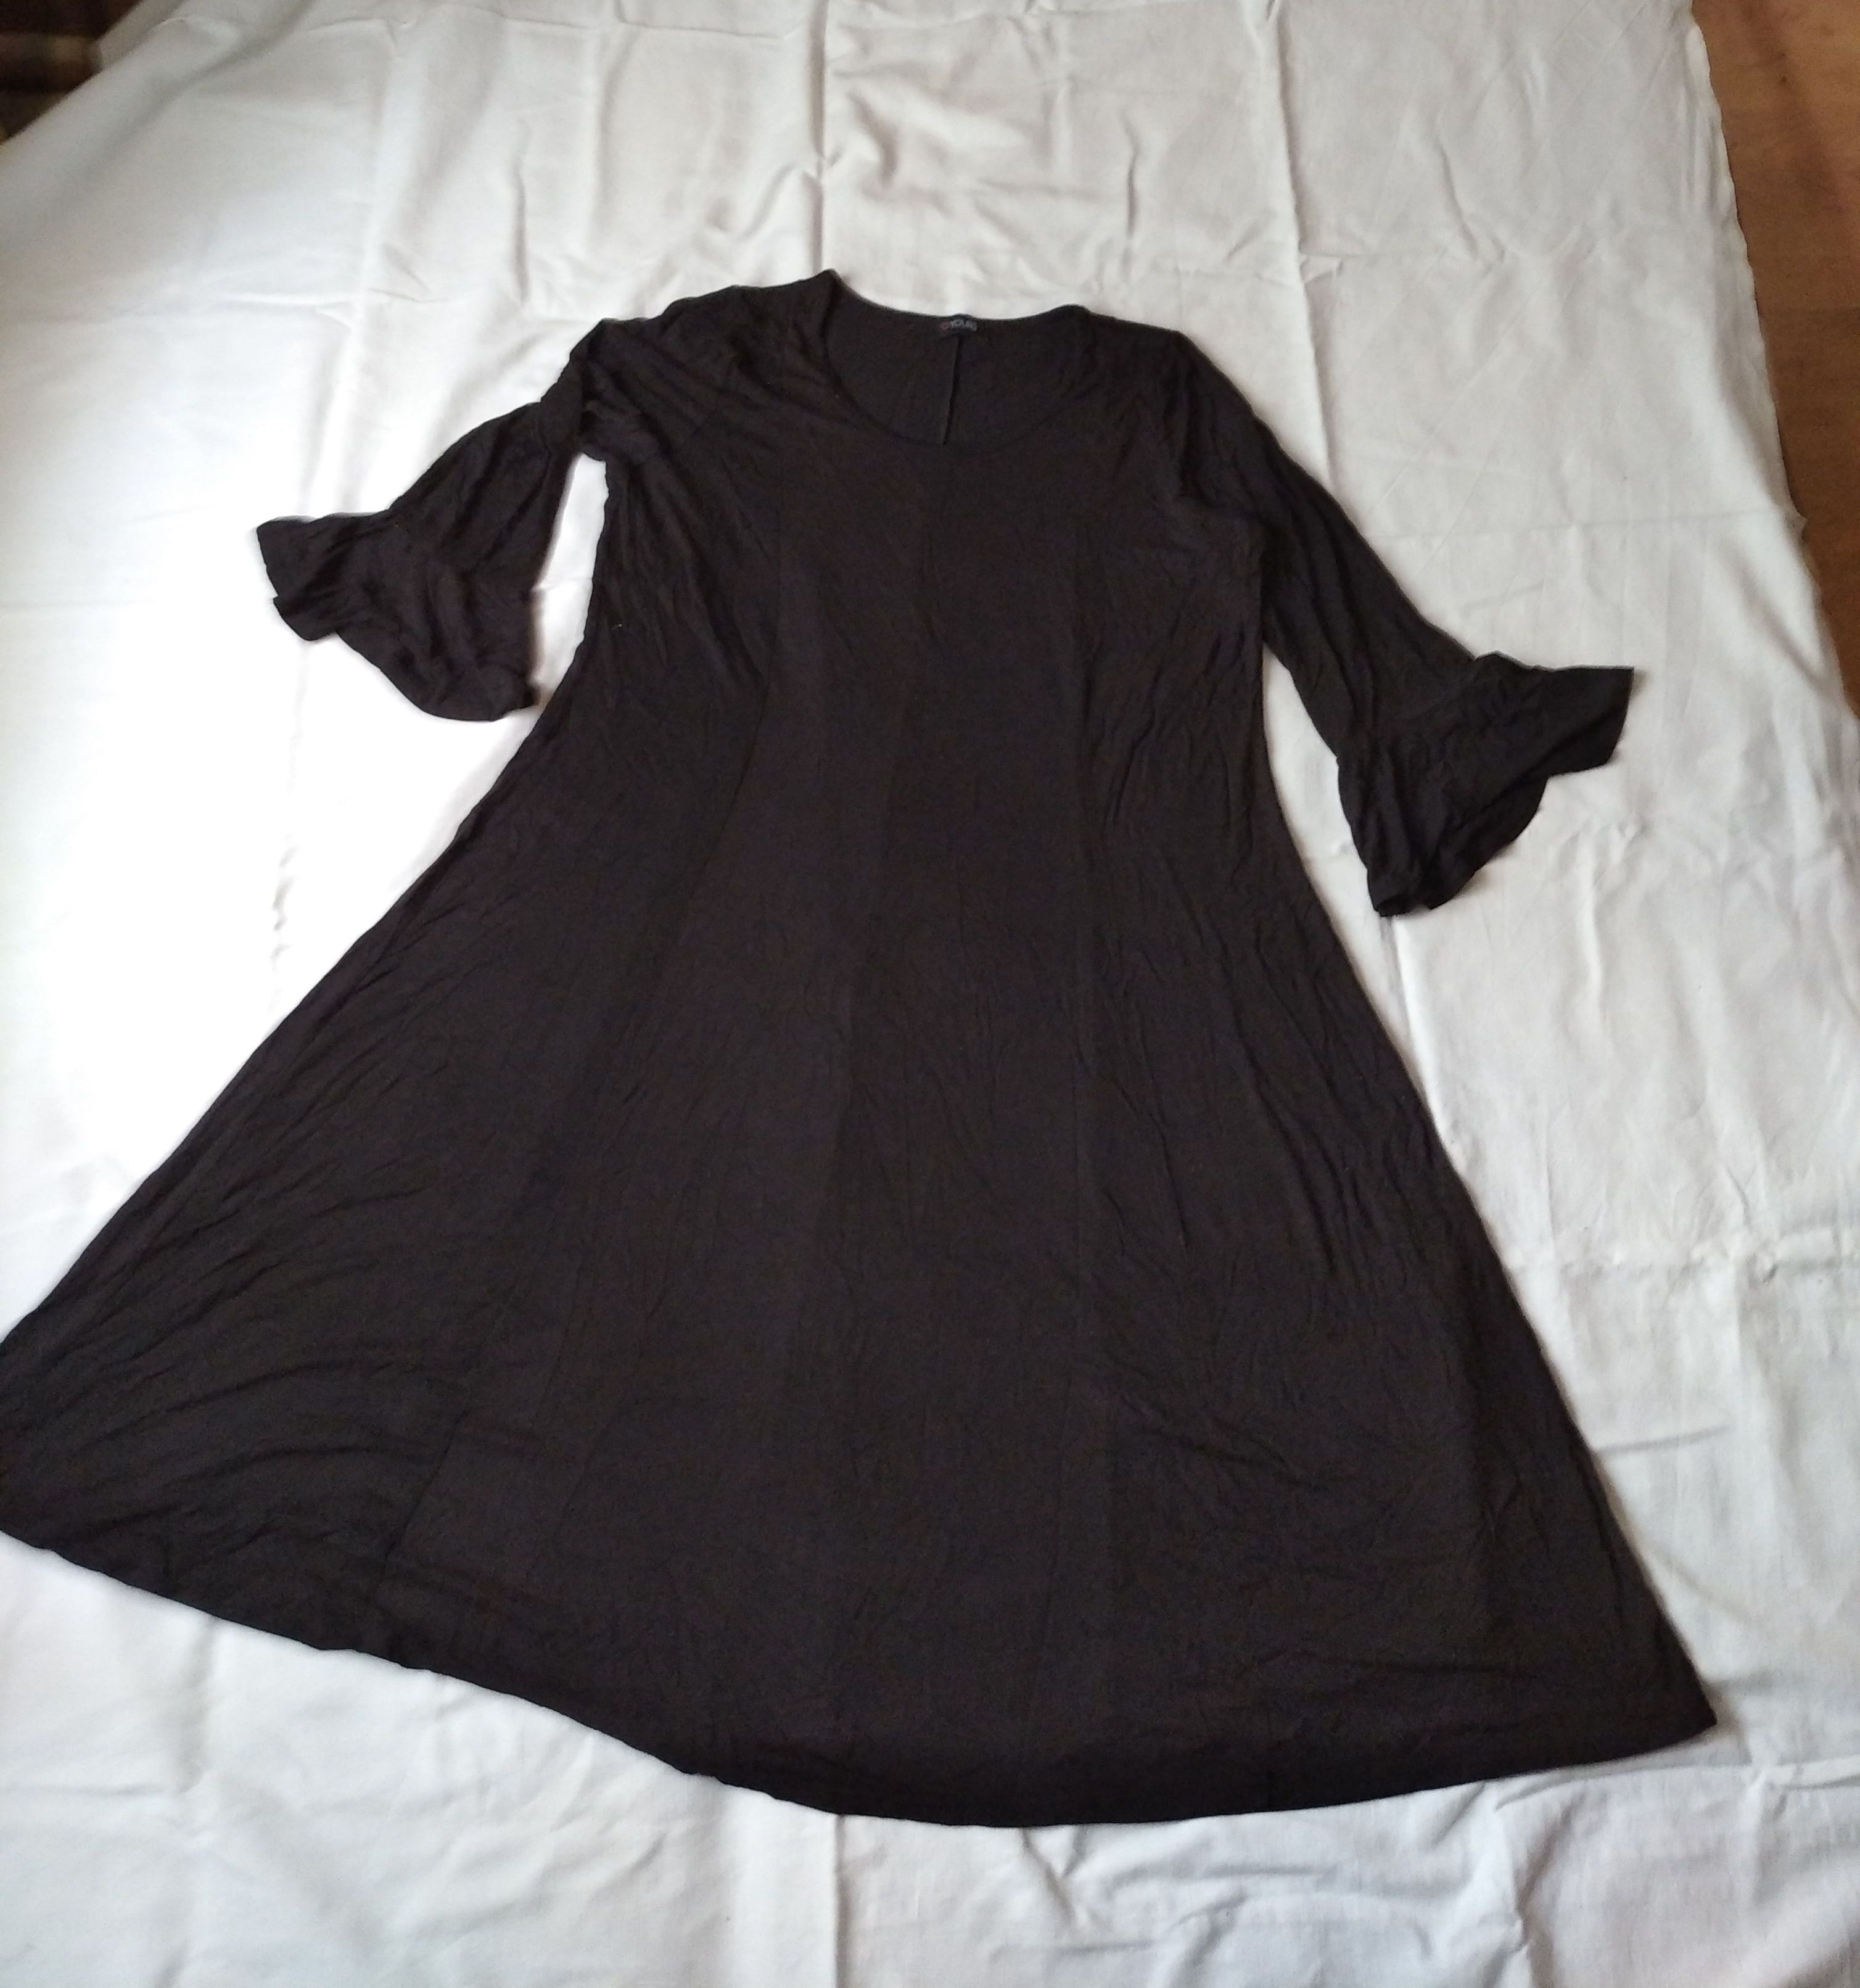clothes: (23, 257, 1745, 1810)
